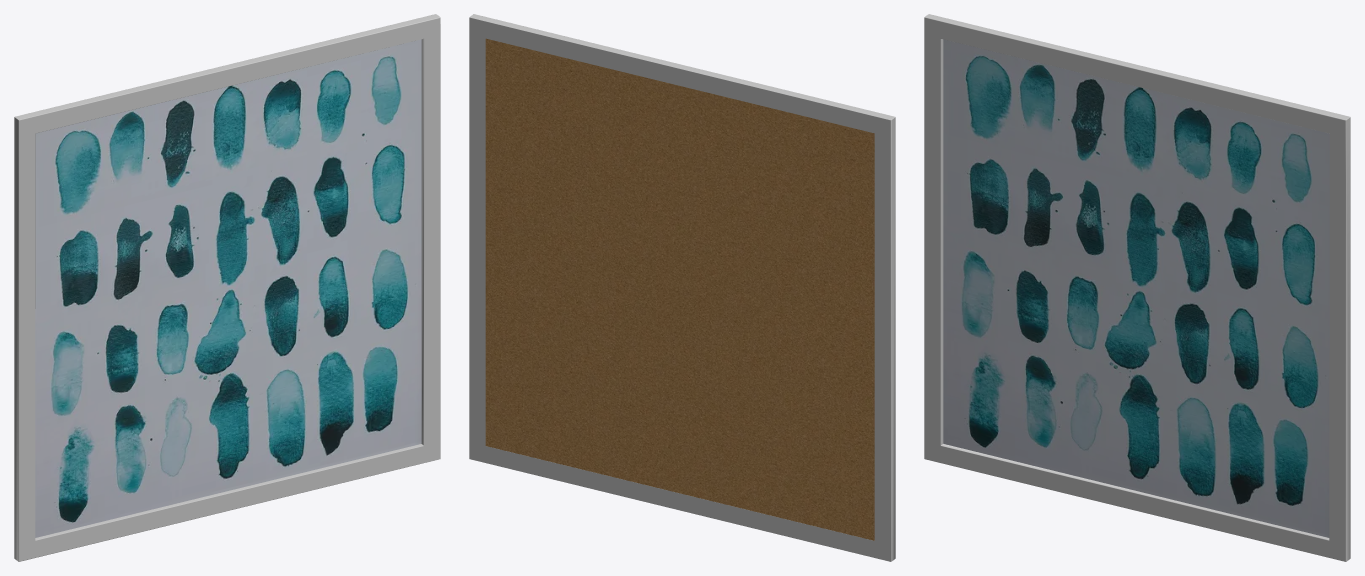
The model's file is B073P14CBH.glb.
The picture shows the model from 3 angles, left to right: view 1: azimuth 30°, elevation 25°; view 2: azimuth 150°, elevation 25°; view 3: azimuth 330°, elevation 25°; orthographic projection.
Visible parts, largest first — view 1: RootNode; view 2: RootNode; view 3: RootNode.
Part boxes in pixels (<box>): RootNode: <box>14,14,440,561</box>; RootNode: <box>469,14,895,561</box>; RootNode: <box>924,14,1350,561</box>.
Size of the model in its own units: 0.4563 by 0.4567 by 0.00886.
1 material, 1 textured.
